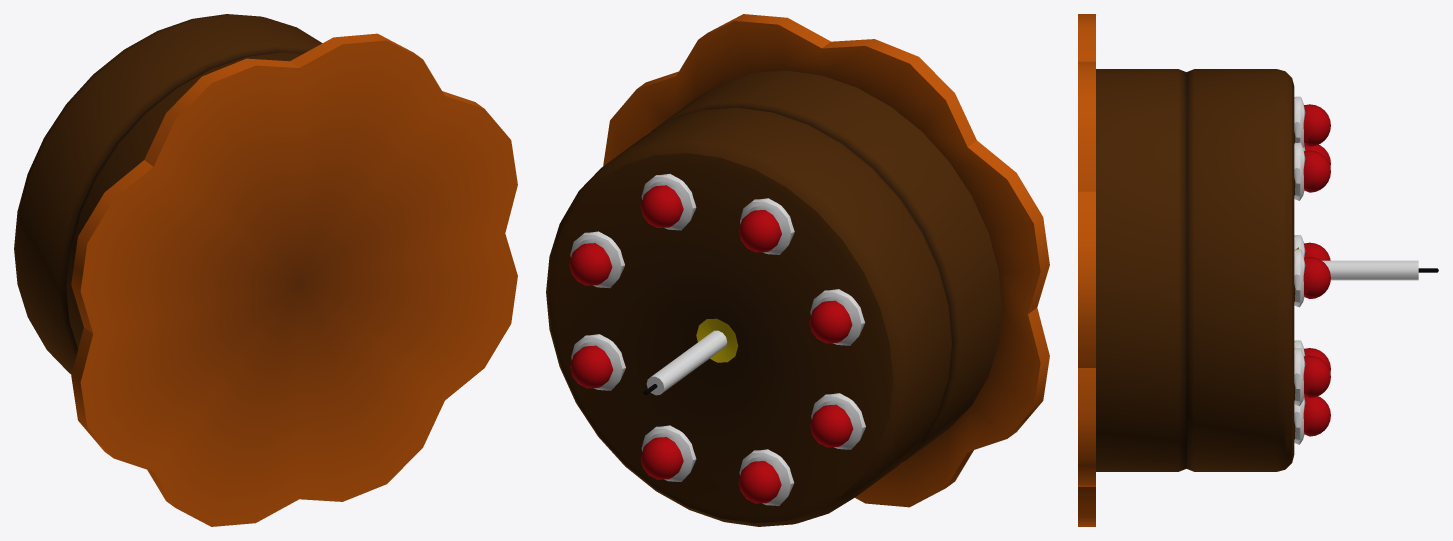
The model's file is Cake_is_a_Lie1.fbx.
3 views of the same model, side by side, from view 1: azimuth 30°, elevation 25°; view 2: azimuth 150°, elevation 25°; view 3: azimuth 270°, elevation 25° (orthographic). The views are drawn at different scales.
Parts seen in each view (by area): view 1: Cylinder; view 2: Cylinder; view 3: Cylinder.
Boxes of the visible parts, box(x1,y1,x2,y2) form: Cylinder: box(14, 14, 517, 526); Cylinder: box(546, 14, 1049, 526); Cylinder: box(1078, 14, 1438, 526).
Bounding box in the file's own units: 206 × 206 × 152.
